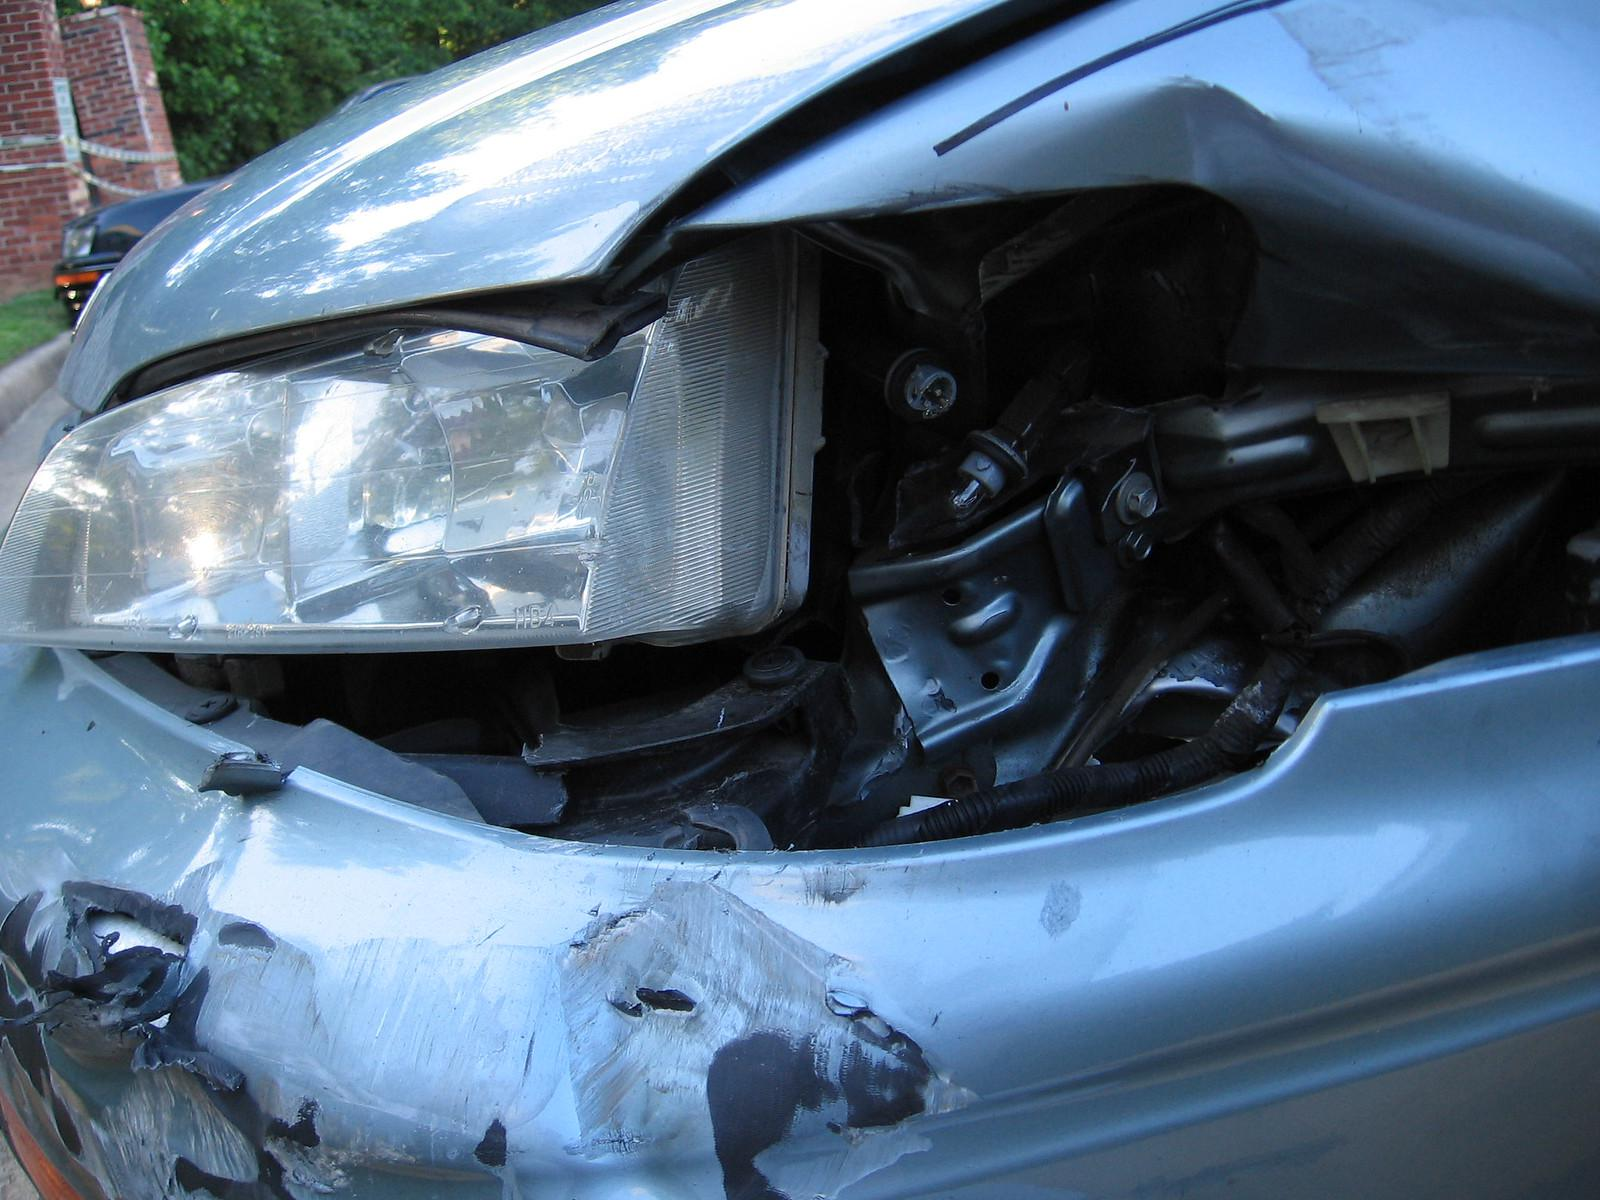Headlight-Damage: (98, 173, 1460, 916)
front-bumper-dent: (38, 837, 1104, 1199)
